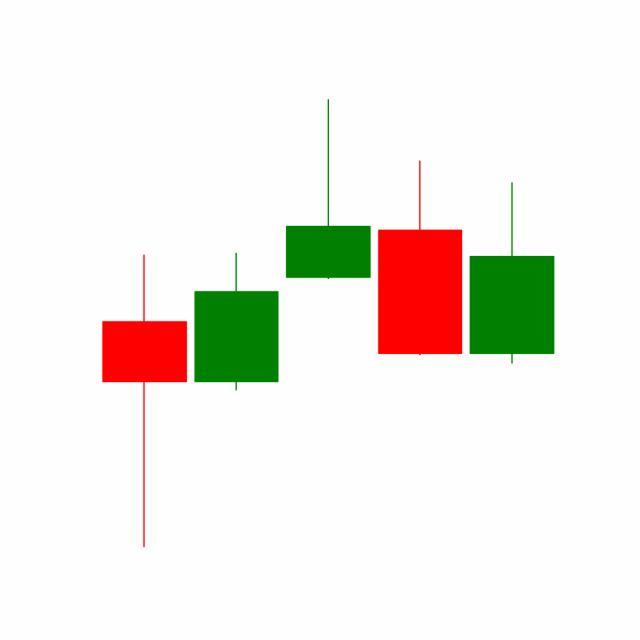Upside-Downside Gap Three Methods: (190, 99, 467, 395)
